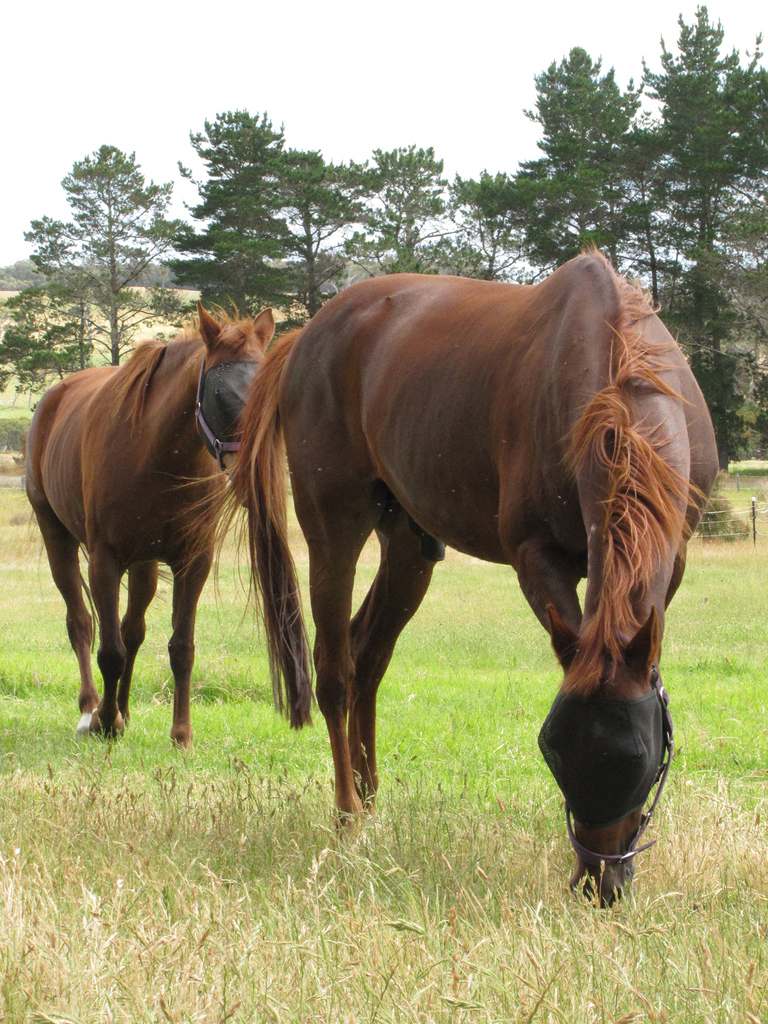horse: (173, 242, 722, 910)
